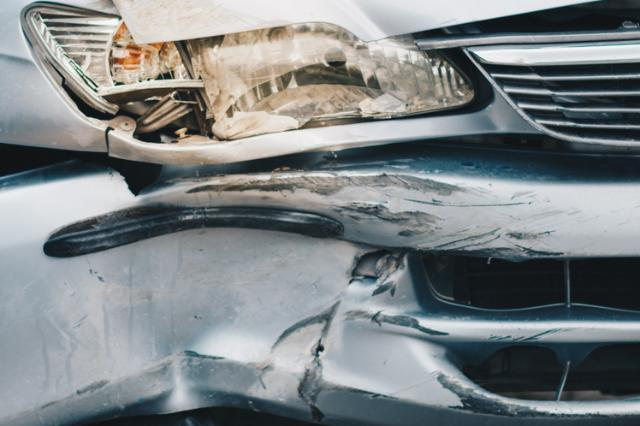Bumper: (4, 150, 628, 425)
Light: (16, 11, 453, 132)
